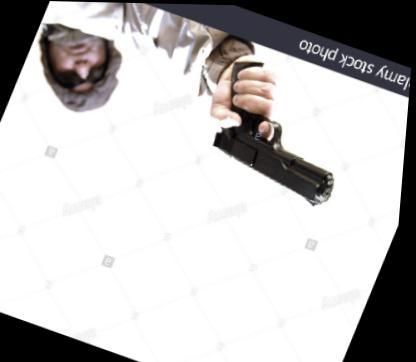pistol: (184, 50, 376, 208)
